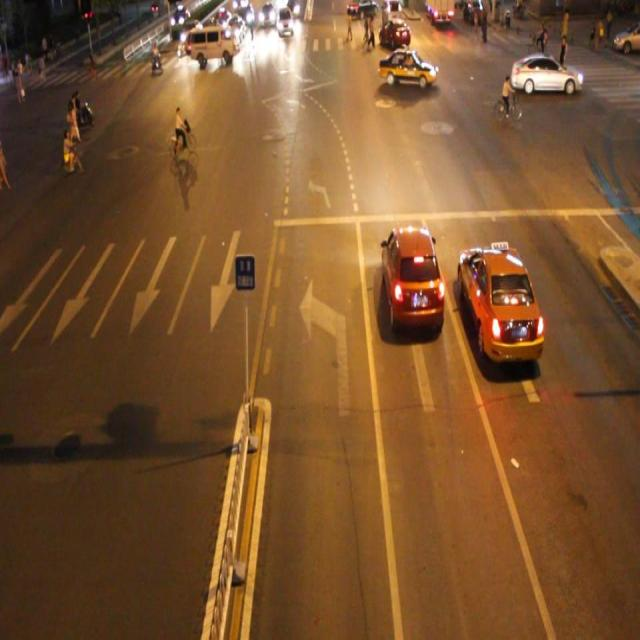car: (458, 246, 542, 360), (381, 225, 443, 330), (379, 47, 435, 93)
truck: (188, 26, 239, 66)
